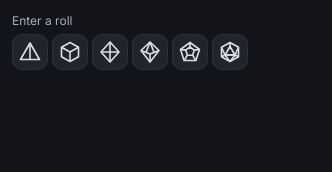
DiceBlock › shows the faces of the chosen die, a roll button and a way back
Click the button named "d6" at coordinates (70, 52), box [52, 34, 88, 70]
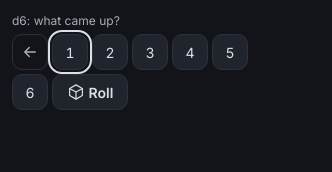
Now the button "1" is shown, box [52, 34, 88, 70]
